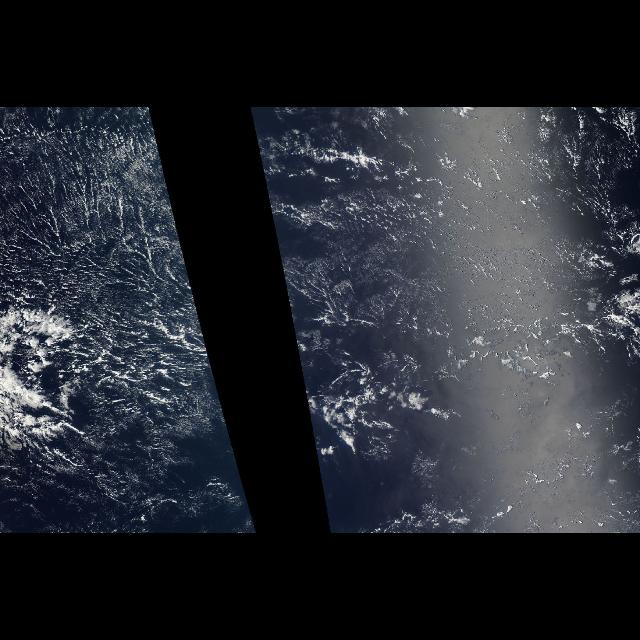Gravel: (435, 304, 639, 384), (79, 312, 205, 406)
Sugar: (250, 113, 612, 329), (3, 107, 197, 310)
